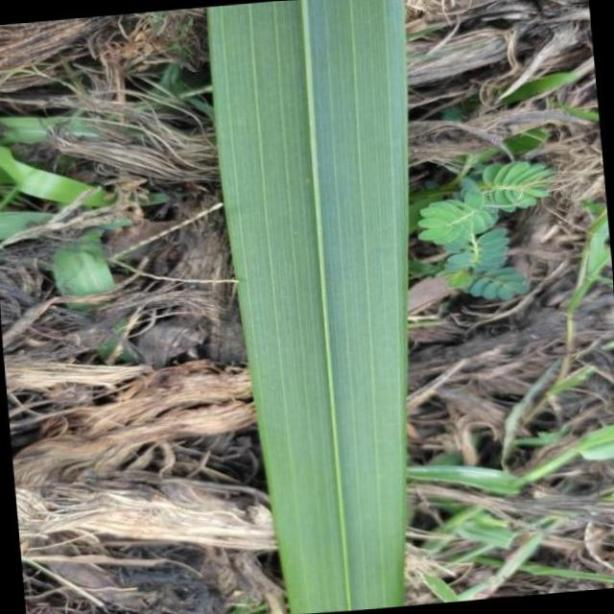Healthy: (209, 0, 411, 614)
